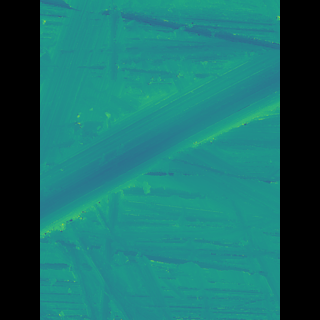Loch: (69, 41, 250, 241)
